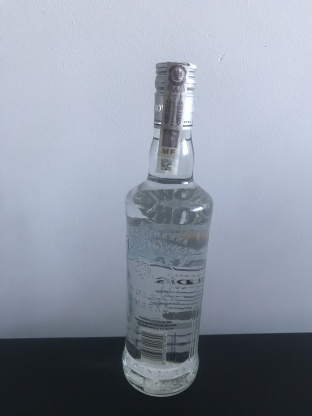nakretka: (151, 57, 198, 133)
